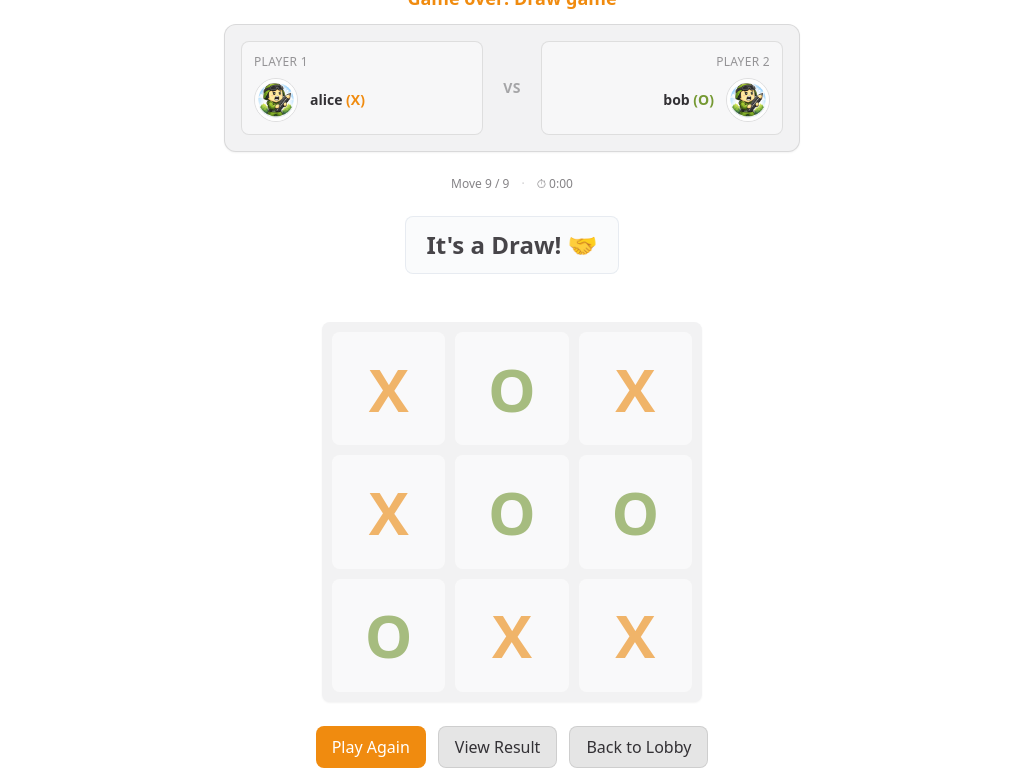
Scenario: Game page socket wiring › reopens game over modal when View Result is clicked after closing
(page scrolled)
Step 1. Click the button "View Result" → (498, 747), box [438,726,557,767]
(page scrolled)
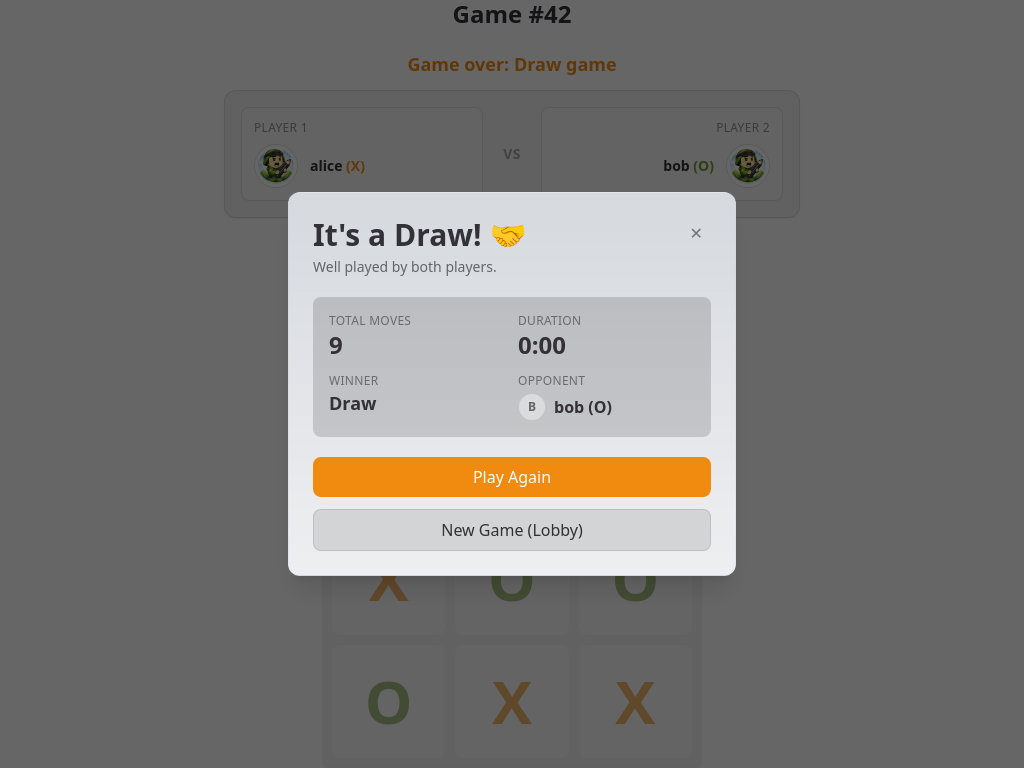
Step 2. Click the button named "close game over modal" → (696, 233), box [682,217,711,249]
(page scrolled)
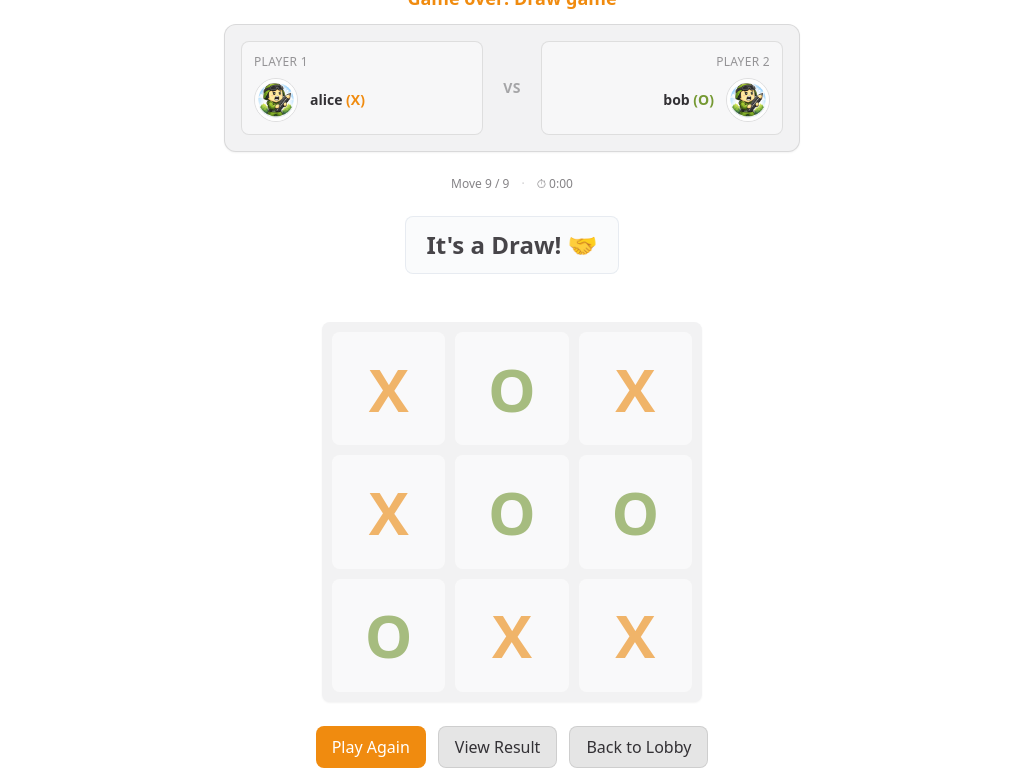
Result: the dialog with test id "game-over-modal" is gone
Step 3. Click the button "View Result" → (498, 747), box [438,726,557,767]
(page scrolled)
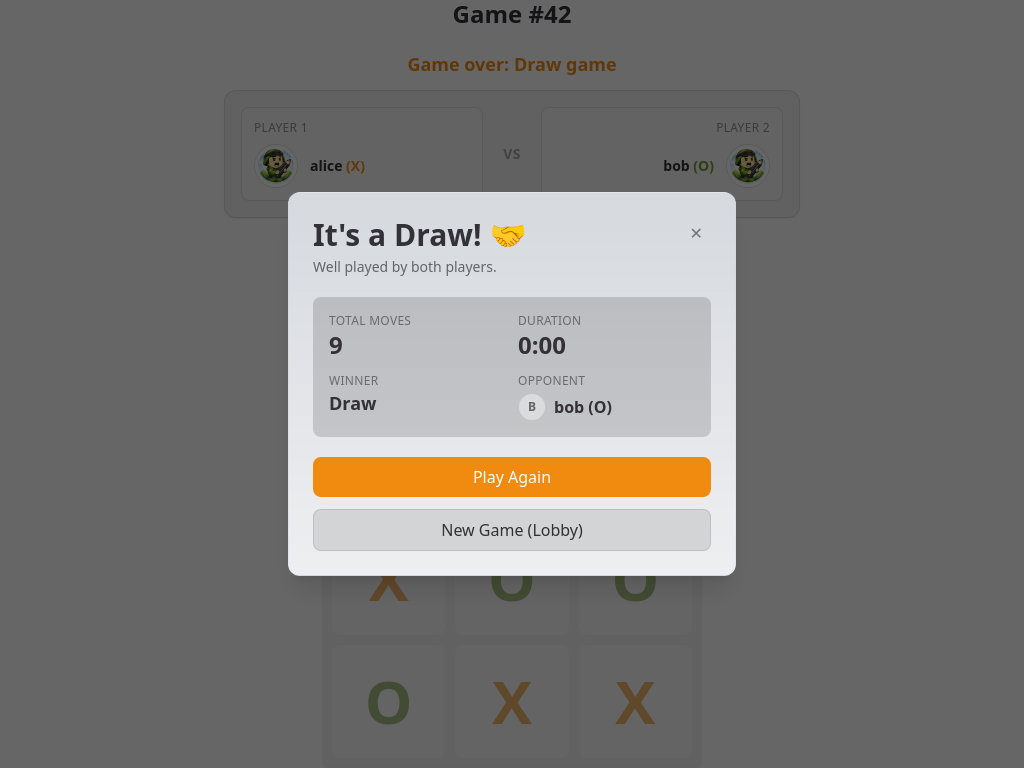
Result: the dialog with test id "game-over-modal" is shown
